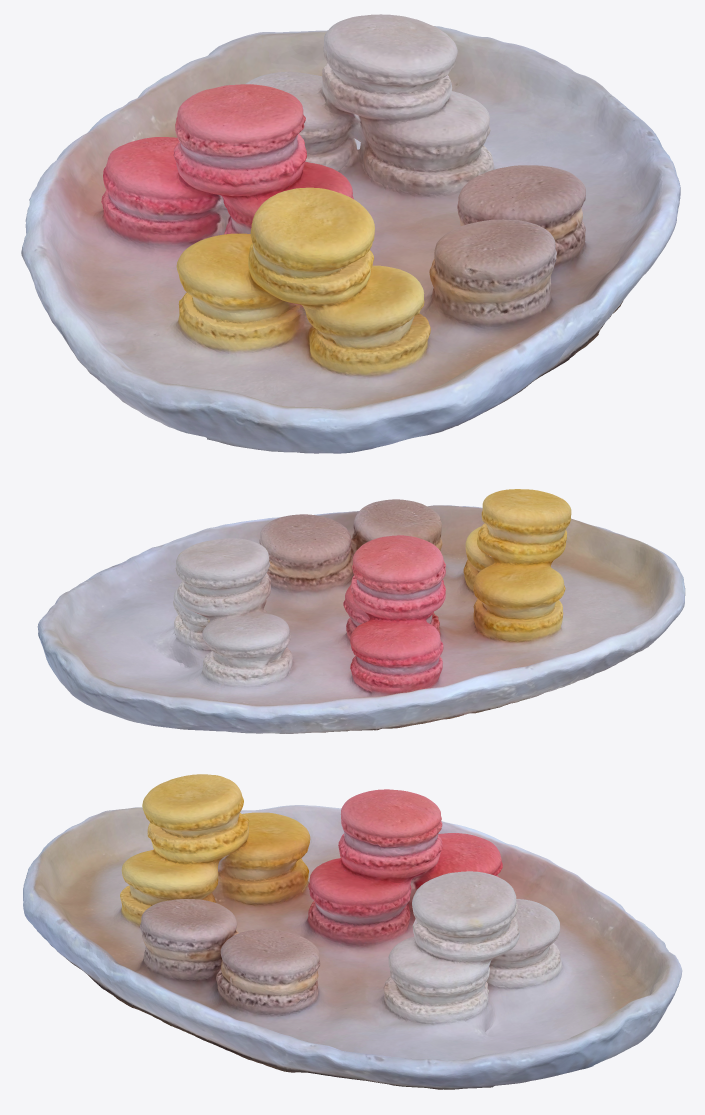
The model's file is shirin.latifeh.final.glb.
3 renders of one model, top to bottom at view 1: azimuth 30°, elevation 25°; view 2: azimuth 150°, elevation 25°; view 3: azimuth 270°, elevation 25°, orthographic. The views are drawn at different scales.
Visible parts, largest first — view 1: object 1; view 2: object 1; view 3: object 1.
Boxes of the visible parts, x1,y1,x2,y2 form: object 1: (21, 14, 680, 453); object 1: (37, 489, 685, 733); object 1: (23, 774, 682, 1089).
Bounding box in the file's own units: 0.2657 × 0.0644 × 0.2813.
2 materials, 1 textured.
